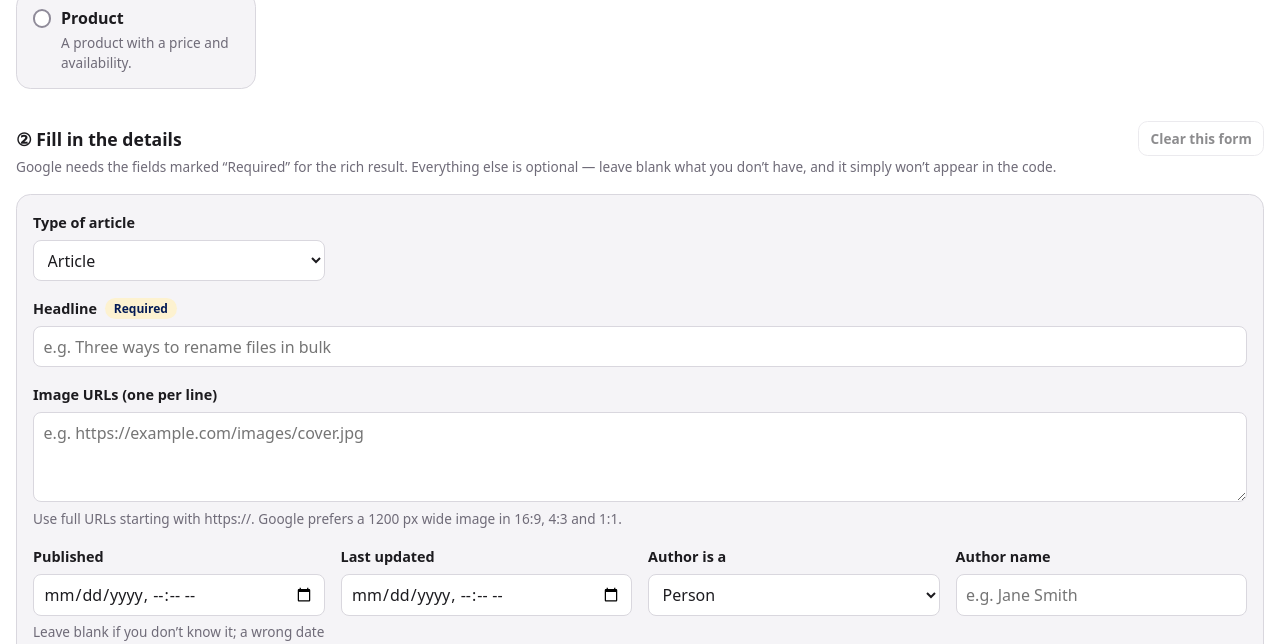
StructuredDataTool › clears the current form only
The image size is (1280, 644).
(page scrolled)
Type "Gone" into the field labelled "Headline Required" at (640, 347), box x1=33 y1=326 x2=1247 y2=367
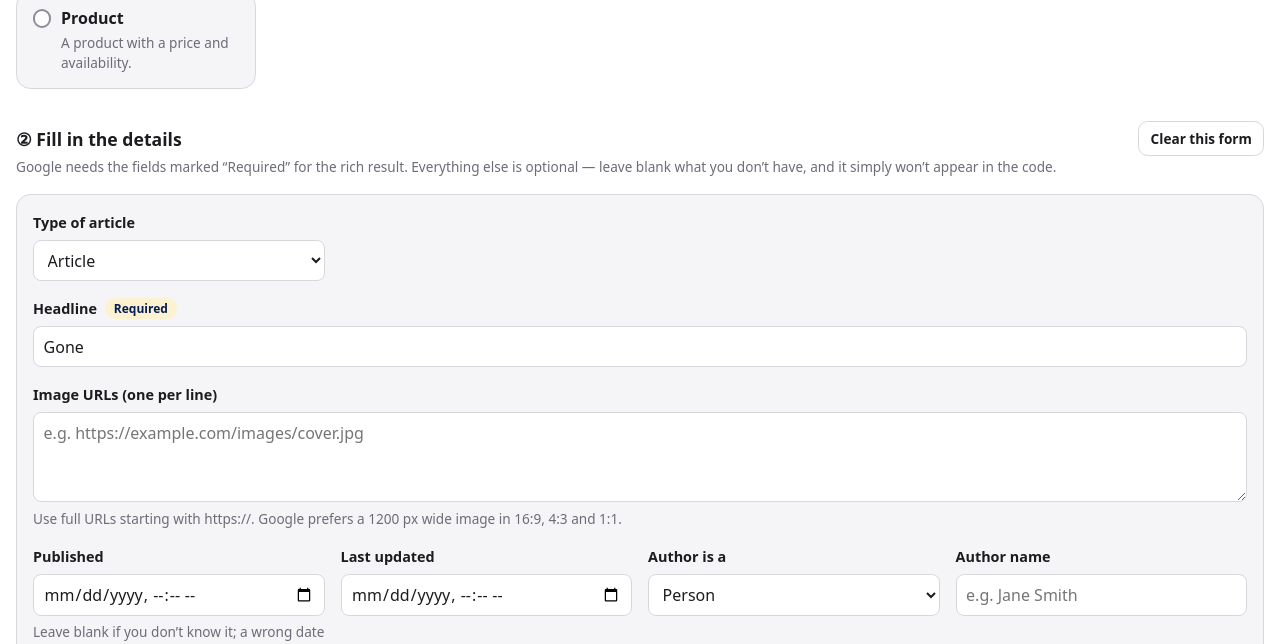
Click the radio button labelled "Product A product with a price and availability." at (42, 19), box x1=33 y1=10 x2=51 y2=28
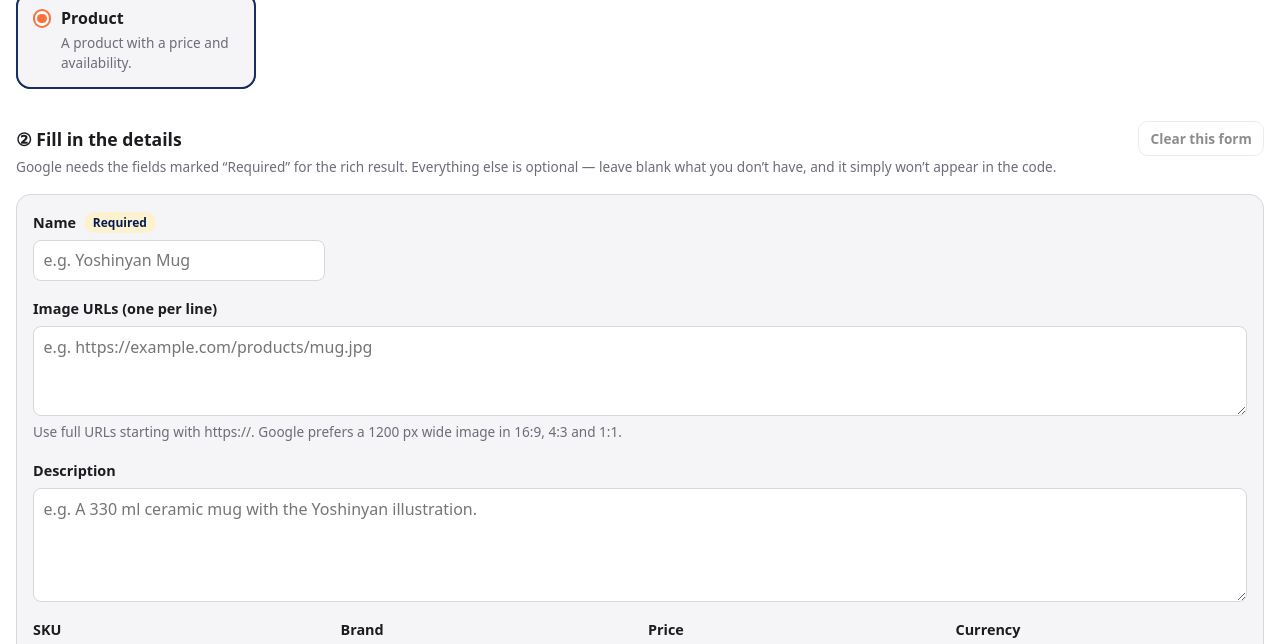
Type "Mug" into the field labelled "Name Required" at (179, 260), box x1=33 y1=240 x2=324 y2=281
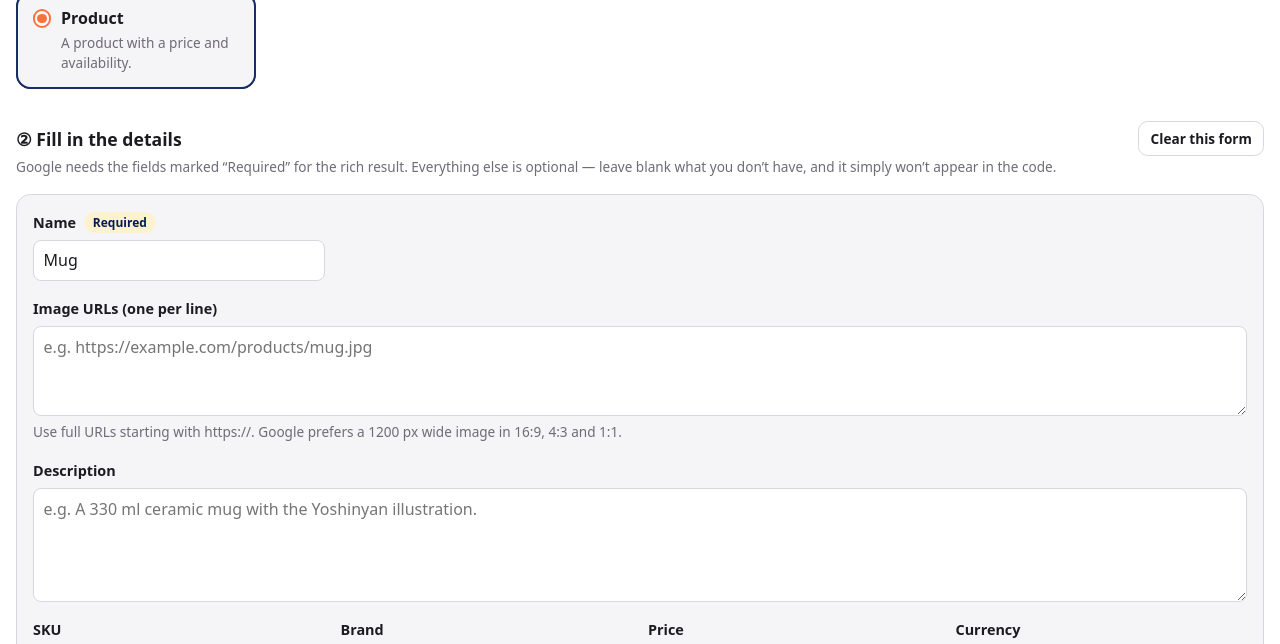
Click the button "Clear this form" at (1201, 139), box x1=1138 y1=121 x2=1264 y2=156
(page scrolled)
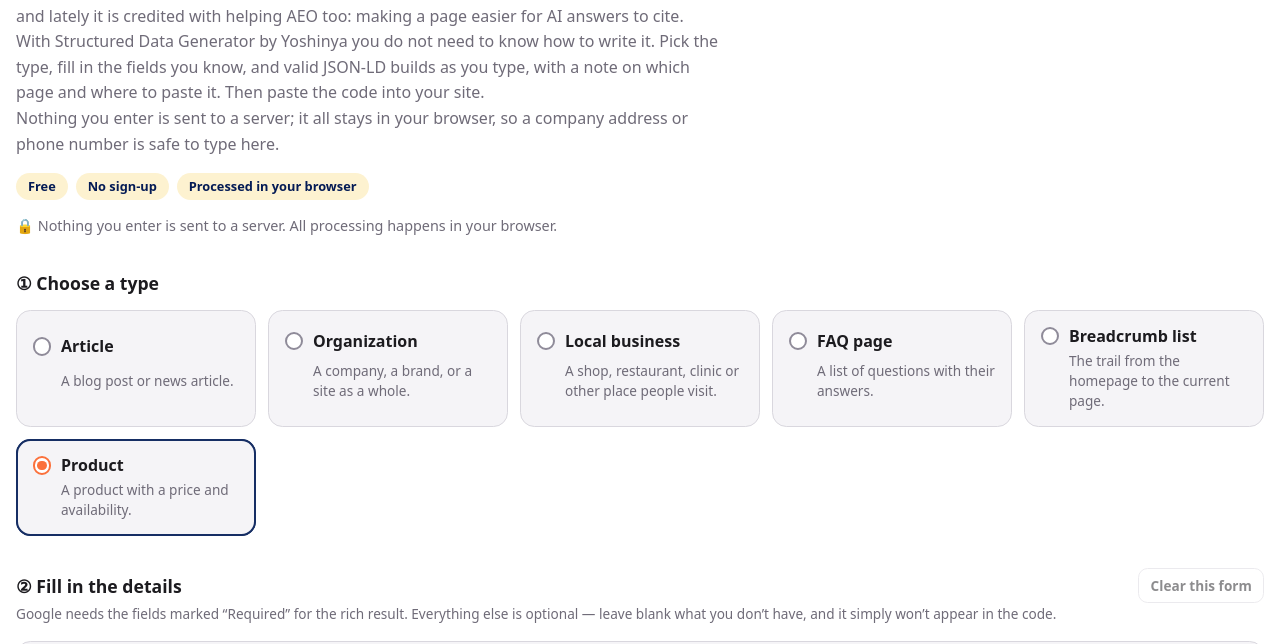
Click the radio button labelled "Article A blog post or news article." at (42, 346), box x1=33 y1=337 x2=51 y2=356
(page scrolled)
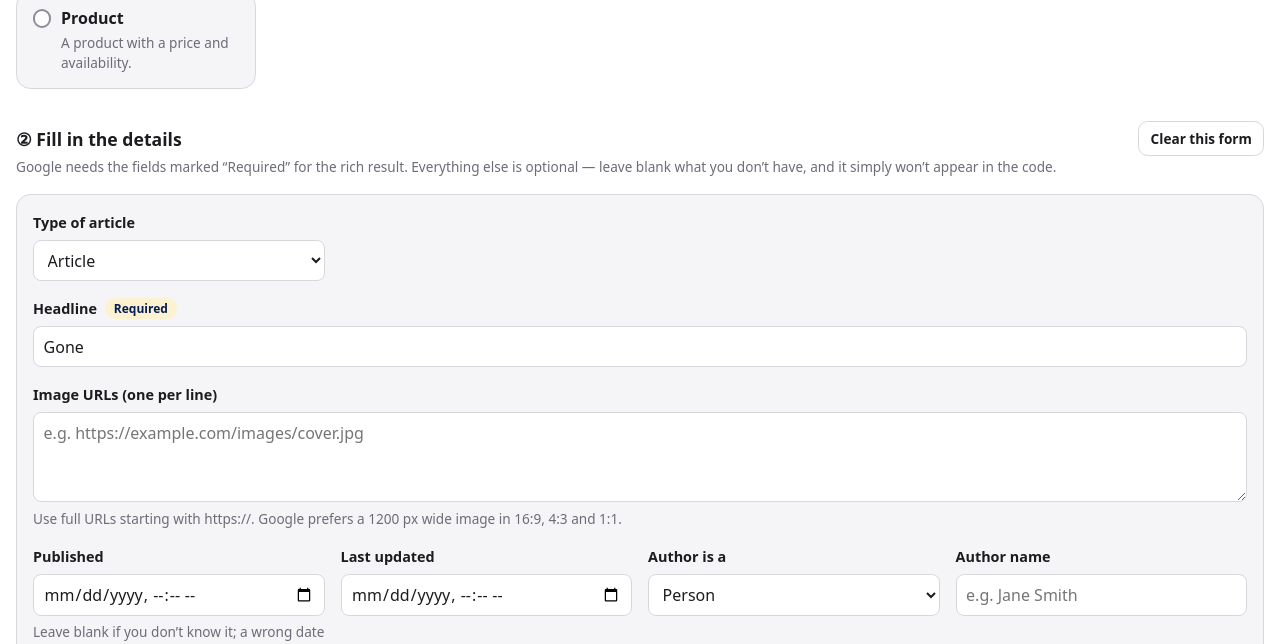
expect the field labelled "Headline Required" holds "Gone": met, box x1=33 y1=326 x2=1247 y2=367
